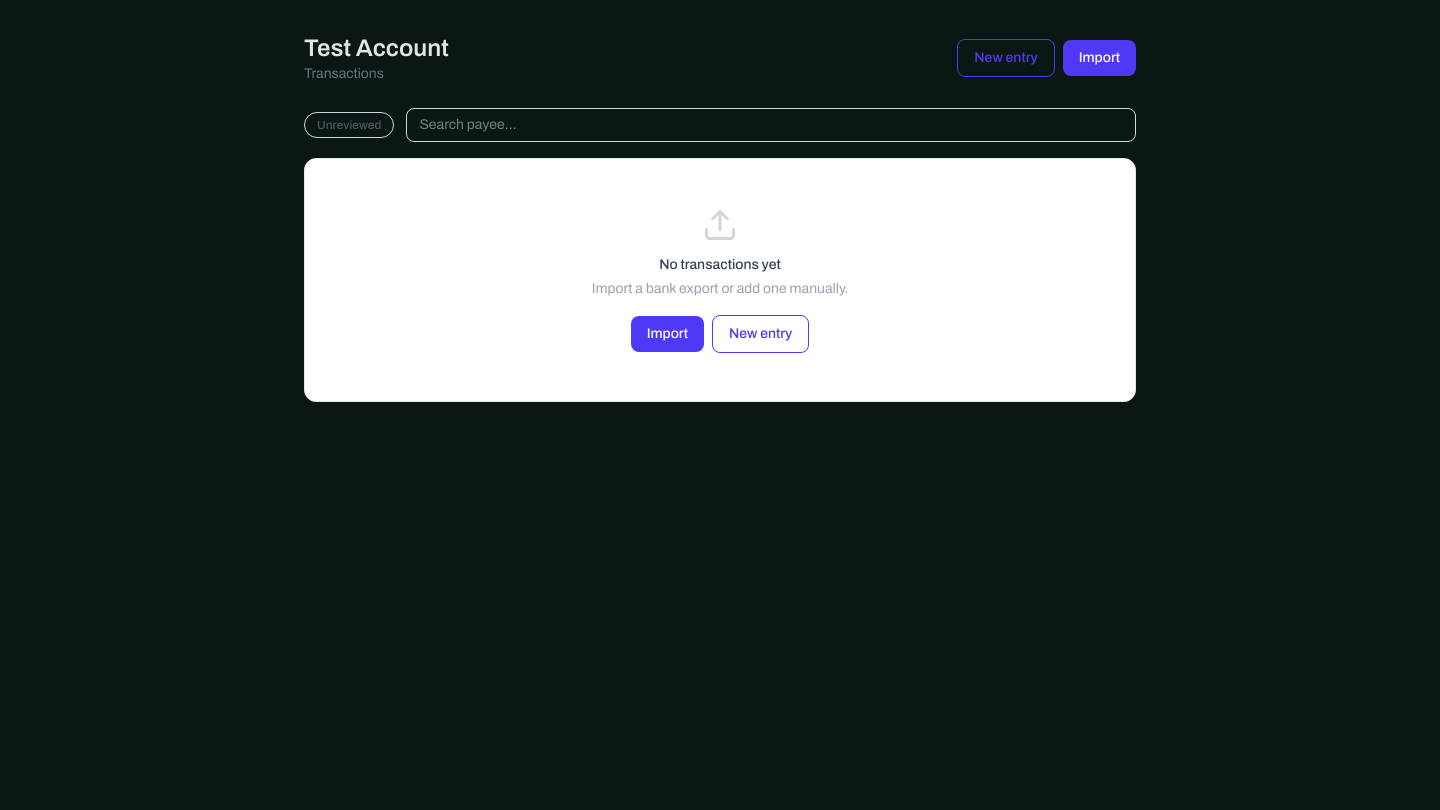
Test: Transactions — add/edit modals › opens AddTransactionModal when 'New entry' header button is clicked
The width and height of the screenshot is (1440, 810).
Click the button "New entry" in the row of "Test Account".
click(1006, 58)  # box top-left (957, 39), bottom-right (1055, 77)
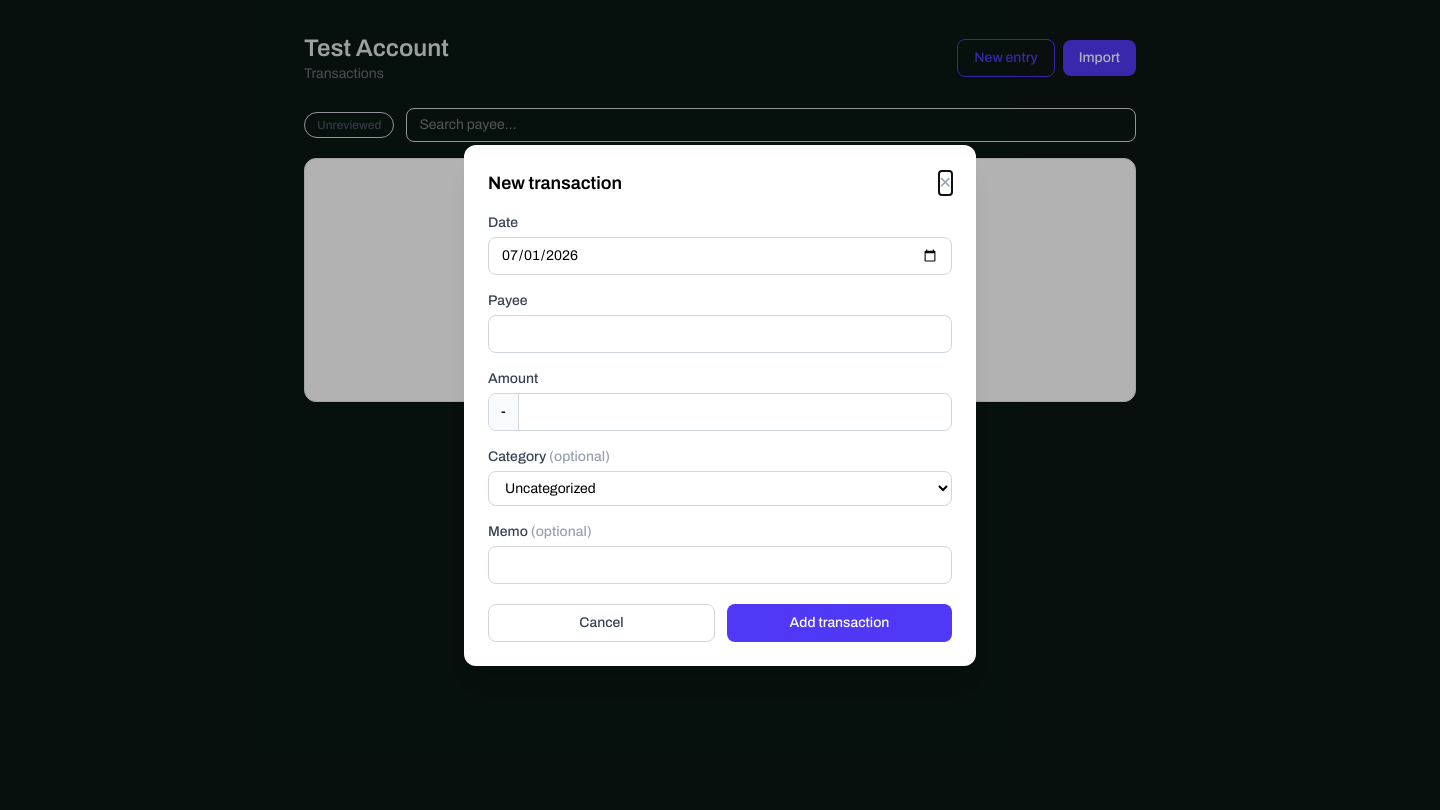
expect the heading "New transaction" is shown: met, box top-left (488, 168), bottom-right (622, 196)
